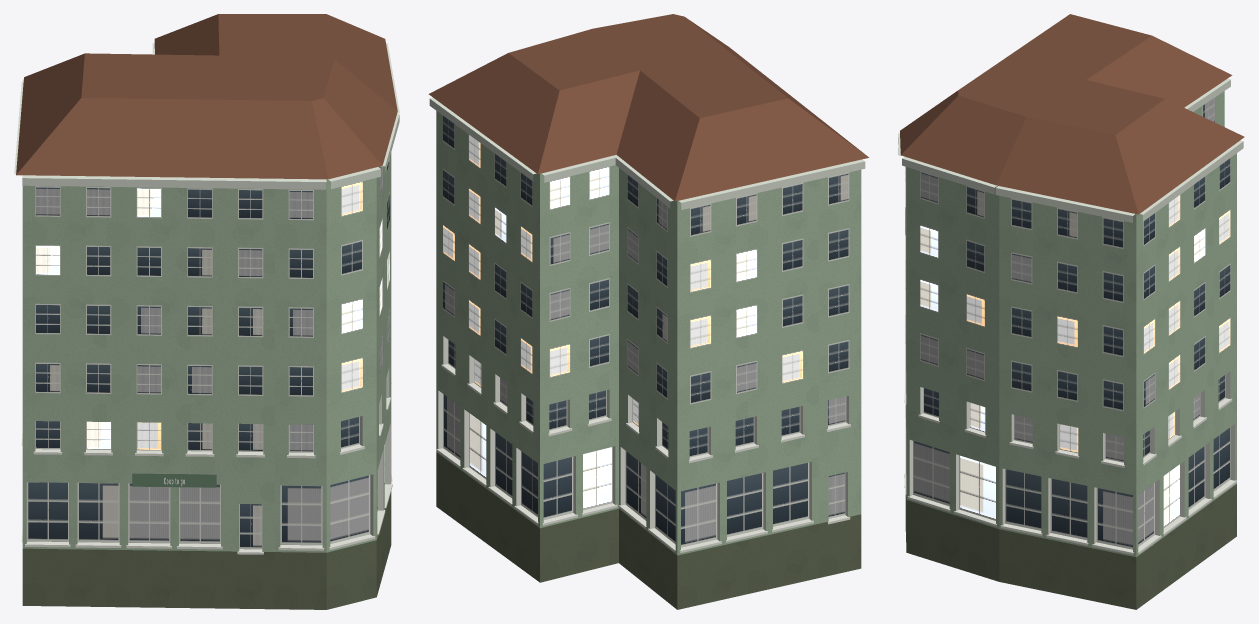
The model's file is langA_coop.glb.
3 views of the same model, side by side, from view 1: azimuth 30°, elevation 25°; view 2: azimuth 150°, elevation 25°; view 3: azimuth 270°, elevation 25° (orthographic). The views are drawn at different scales.
Visible parts, largest first — view 1: langA_coop; view 2: langA_coop; view 3: langA_coop.
Boxes of the visible parts, x1,y1,x2,y2 form: langA_coop: (14, 14, 399, 609); langA_coop: (428, 14, 869, 609); langA_coop: (898, 14, 1244, 609).
Size of the model in its own units: 22.86 by 25.41 by 17.92.
3 materials, 3 textured.
